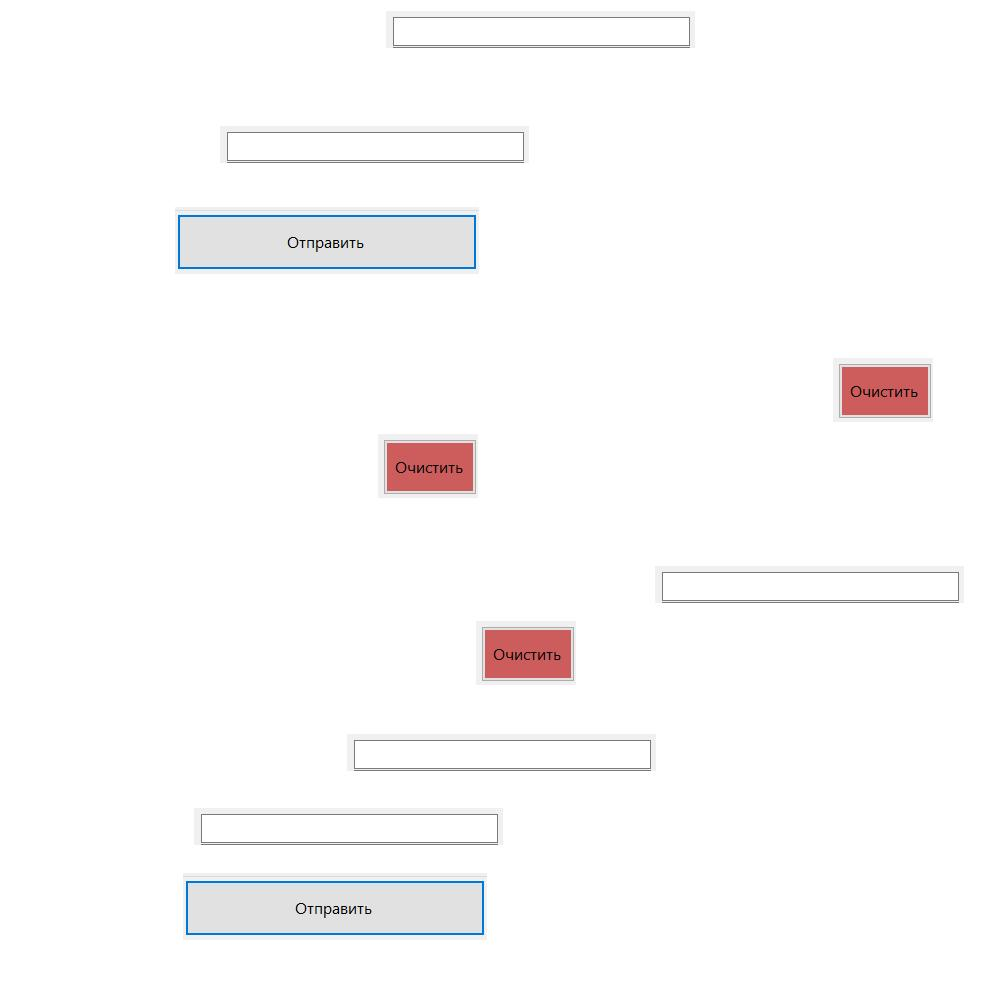Button: (175, 207, 479, 274), (183, 873, 487, 940), (833, 358, 933, 422), (378, 434, 478, 498), (476, 621, 576, 685)
EditText-: (655, 566, 964, 603), (386, 11, 695, 48), (347, 734, 656, 771), (194, 808, 503, 845), (220, 126, 529, 163)
